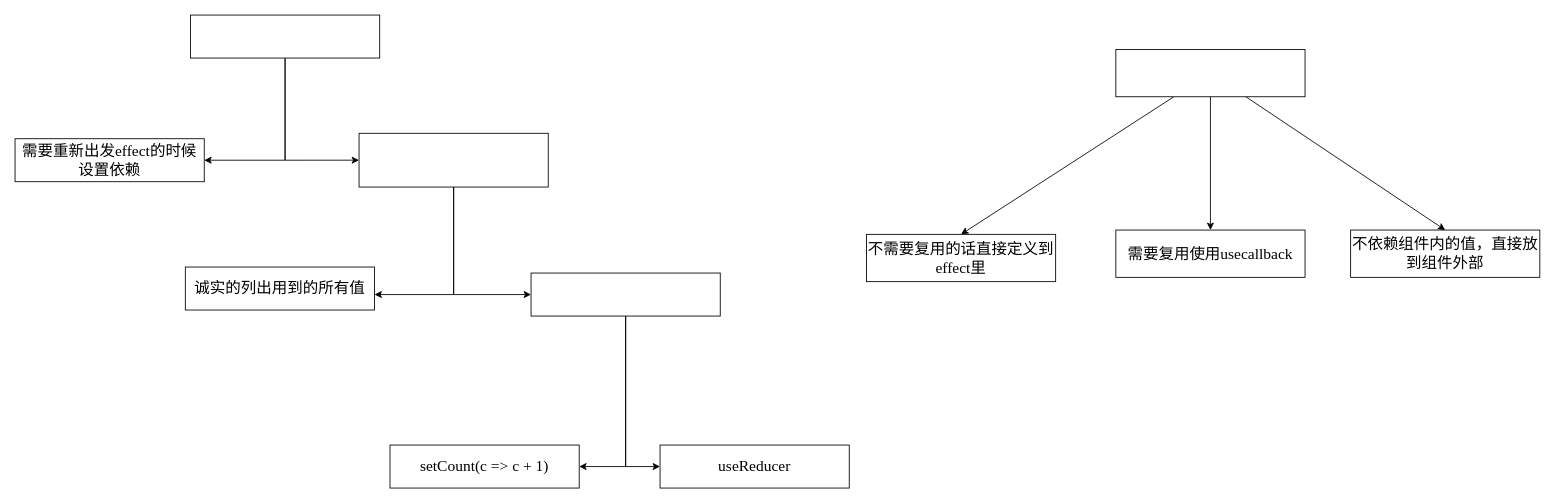
This 1555x503 diagram has some shape labels left out. The centre of each missing label's shape, as x and y in pixels:
effect中用到的组件内的所有值都要写: point 453,159
effect依赖怎么写: point 285,36
优化effect代码，减少依赖: point 625,294
函数怎么处理: point 1210,73
